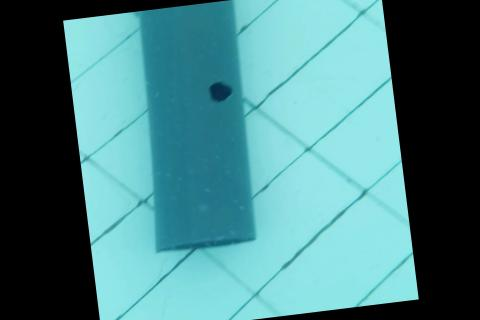kebocoran: (206, 77, 234, 105)
